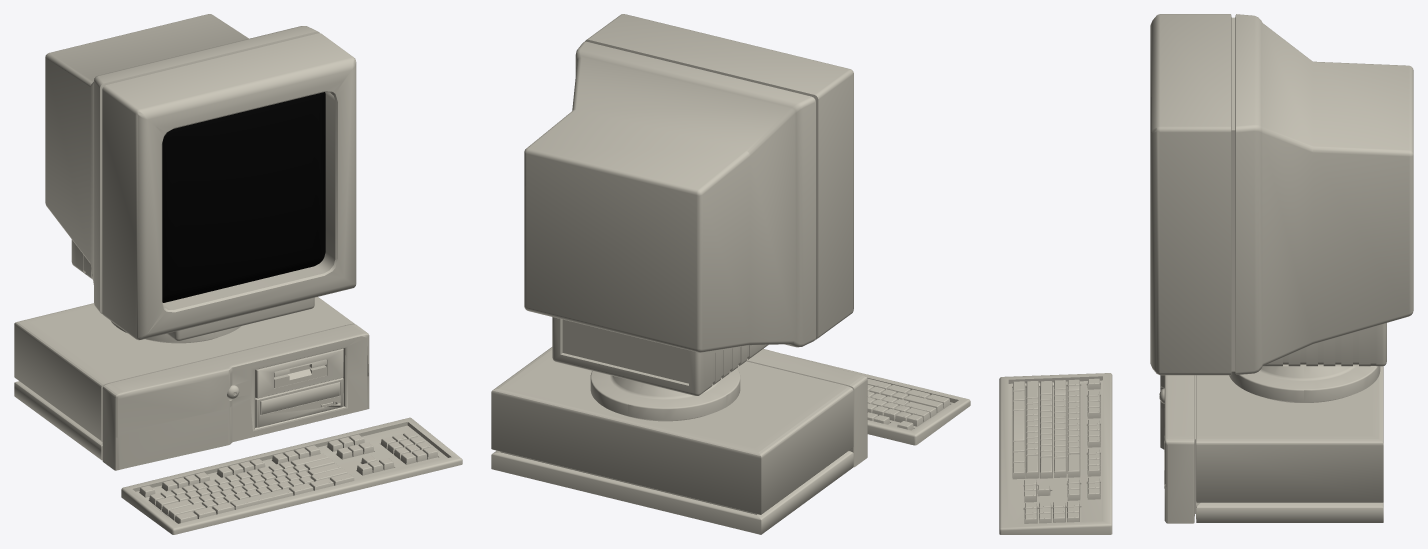
The picture shows the model from 3 angles, left to right: view 1: azimuth 30°, elevation 25°; view 2: azimuth 150°, elevation 25°; view 3: azimuth 270°, elevation 25°; orthographic projection. The views are drawn at different scales.
Parts seen in each view (by area): view 1: ComputerTower_Tower_0, Monitor_MonitorGlass_0; view 2: ComputerTower_Tower_0; view 3: ComputerTower_Tower_0.
Boxes of the visible parts, left/top/right/bottom form: ComputerTower_Tower_0: left=14, top=14, right=462, bottom=534; Monitor_MonitorGlass_0: left=162, top=92, right=325, bottom=302; ComputerTower_Tower_0: left=491, top=14, right=970, bottom=534; ComputerTower_Tower_0: left=999, top=14, right=1413, bottom=534.
Size of the model in its own units: 790 by 940 by 907.
Materials: 2 (2 with a texture image).
